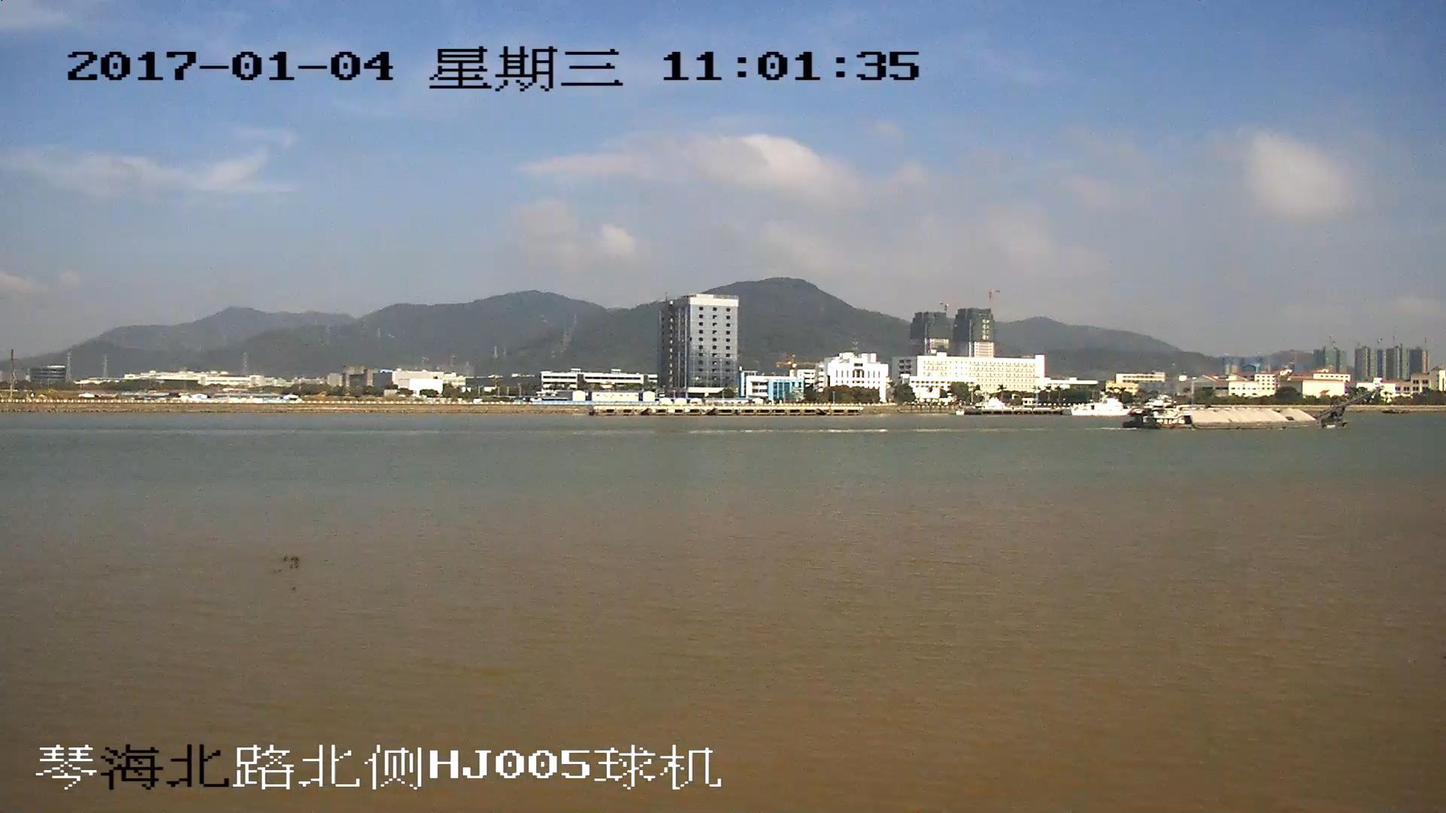ore carrier: (1124, 385, 1379, 432)
